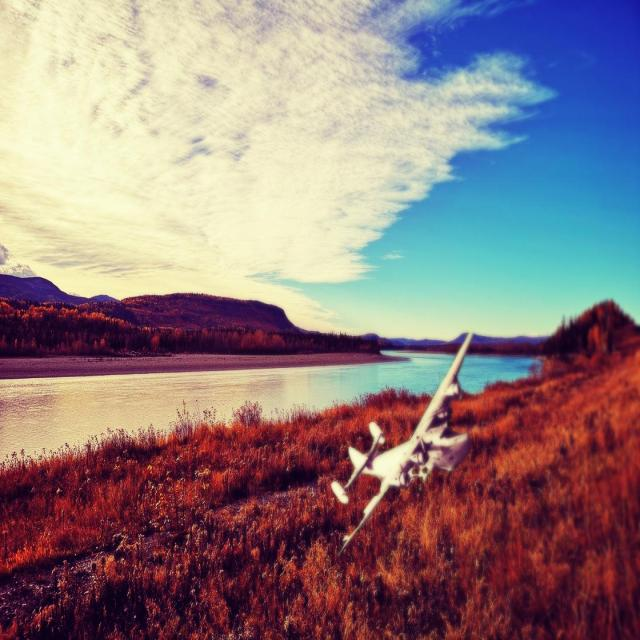airplane: (331, 331, 474, 557)
